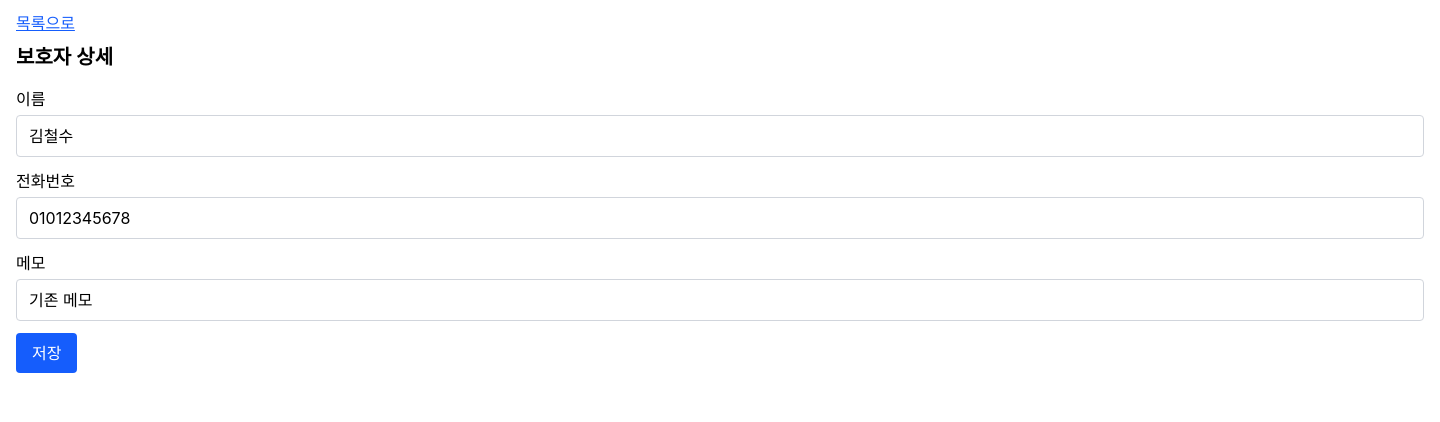
Test case: GuardianDetailPage › loads the full unmasked guardian and saves an edit
This screenshot has width=1440, height=422.
Replace the text in the field labelled "메모" with "새 메모" at (720,300), box [16, 279, 1424, 321]
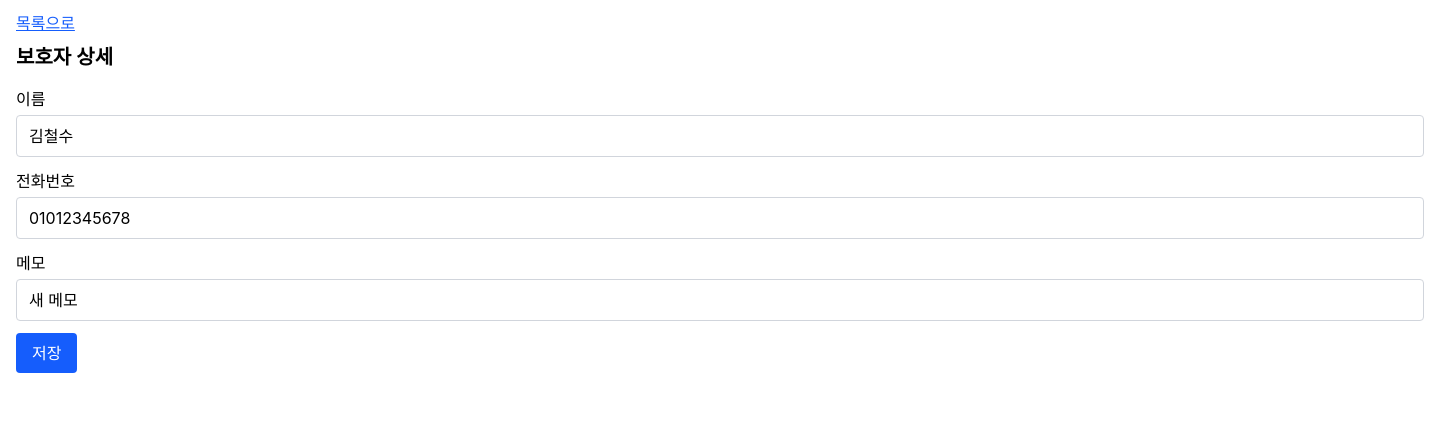
Click the button "저장".
click(47, 353)  # box [16, 333, 78, 373]
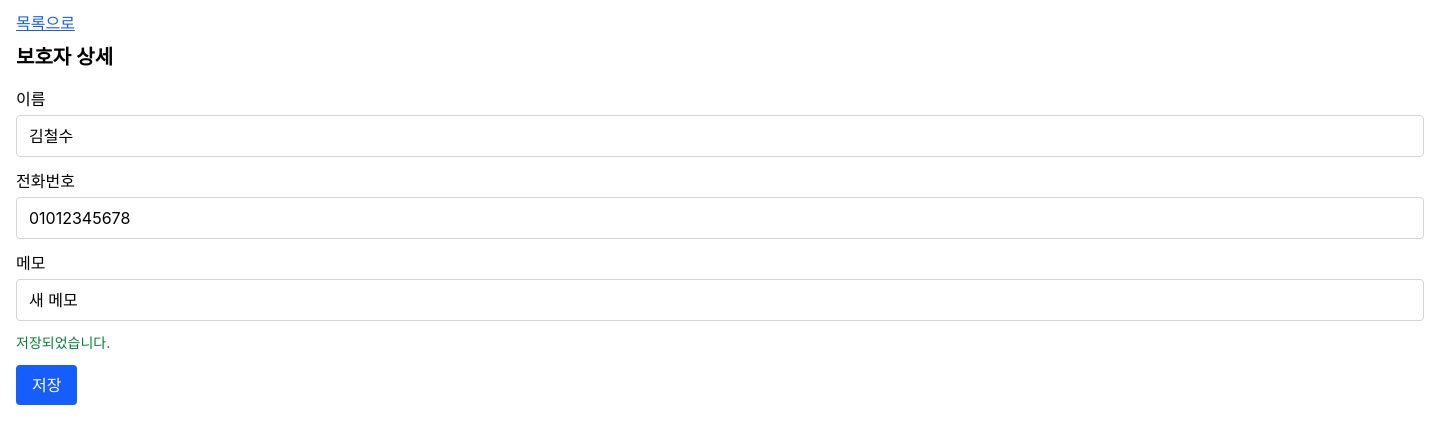
expect the text "저장되었습니다." is shown: met, box [16, 334, 110, 351]
